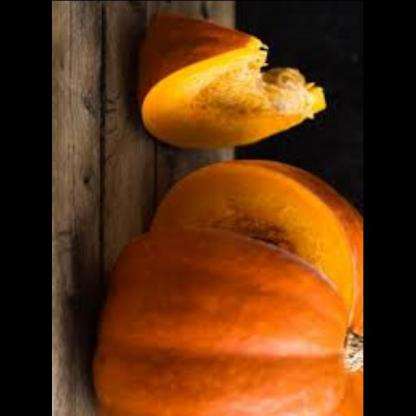pumpkin: (92, 155, 364, 416), (133, 14, 336, 148)
